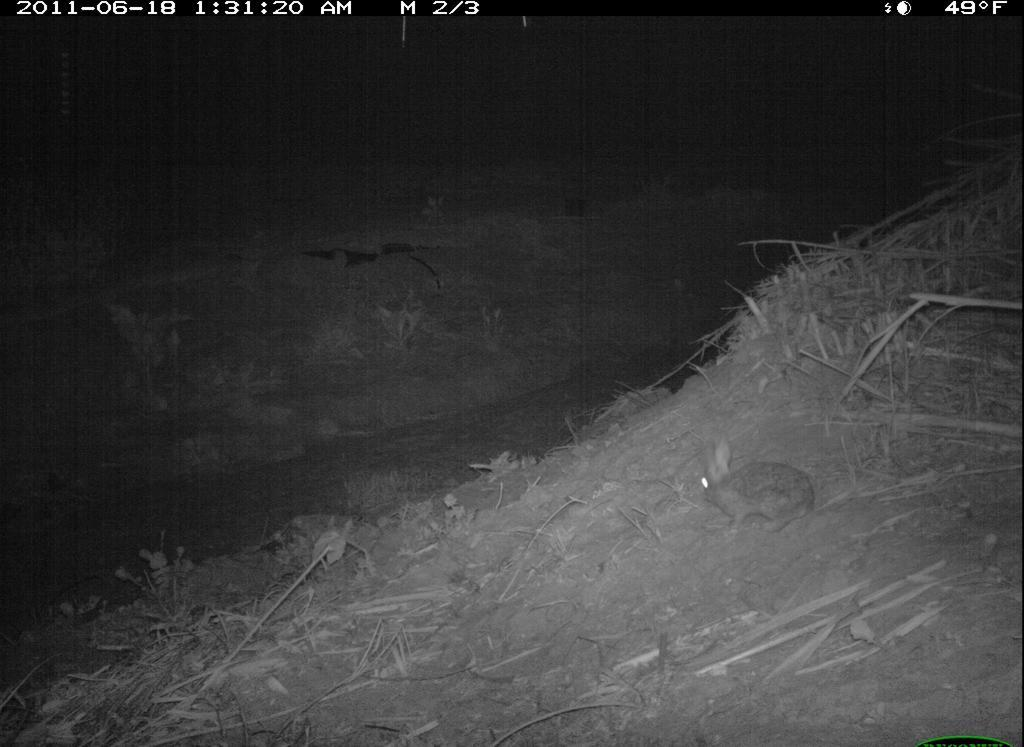rabbit: (696, 440, 815, 538)
